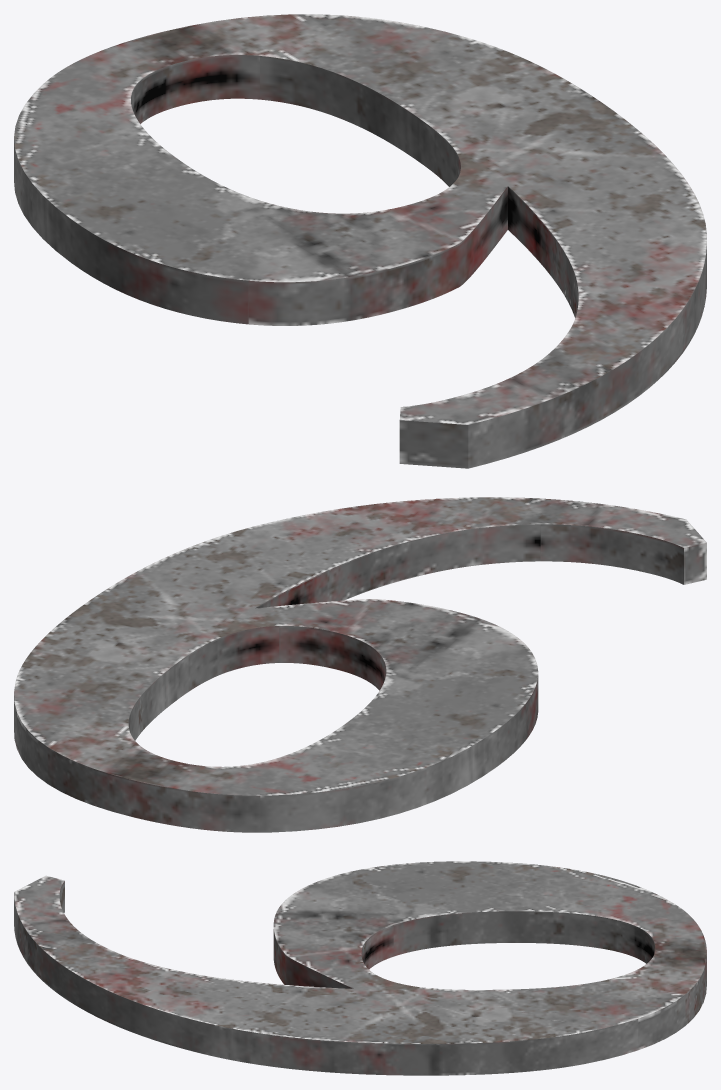
Rendered from counter_num_9.fbx.
3 renders of one model, top to bottom at view 1: azimuth 30°, elevation 25°; view 2: azimuth 150°, elevation 25°; view 3: azimuth 270°, elevation 25°, orthographic. The views are drawn at different scales.
Parts seen in each view (by area): view 1: 9; view 2: 9; view 3: 9.
Boxes of the visible parts, box(x1,y1,x2,y2) form: 9: box(14, 14, 706, 468); 9: box(14, 497, 706, 832); 9: box(14, 861, 706, 1075).
Bounding box in the file's own units: 12.62 × 1.02 × 20.23.
